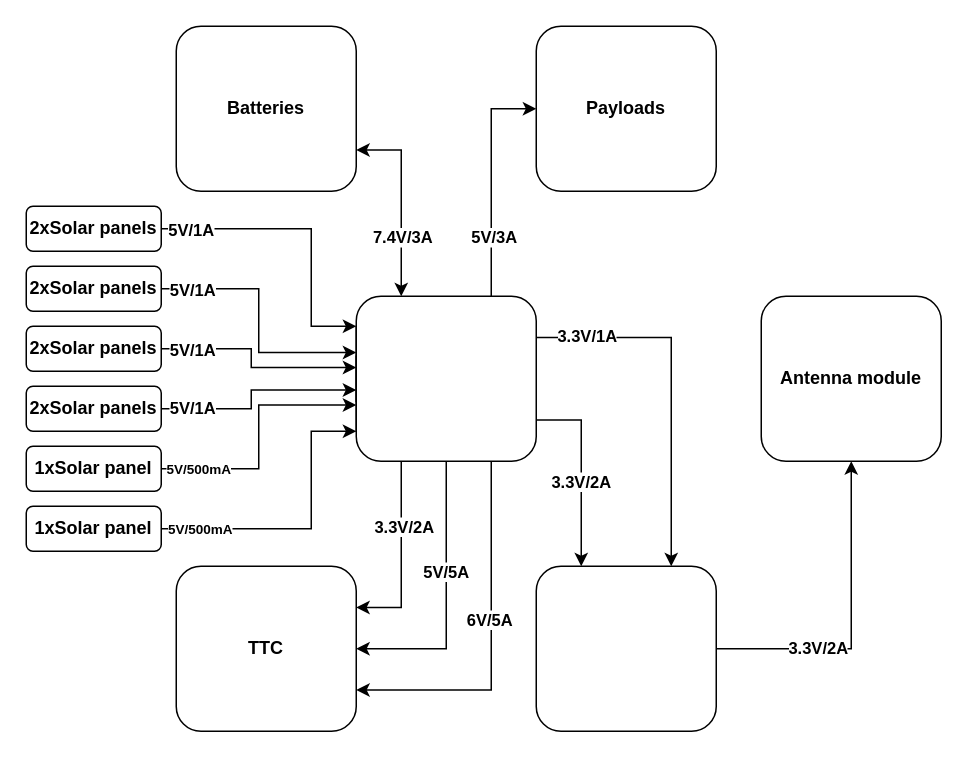
Image size: 968x758. Some labels were removed from this diagram. Here are the shapes that lost their labels. From the top down, the centre of each, then its label:
At (x=445, y=378): "EPS".
At (x=625, y=648): "OBDH".
